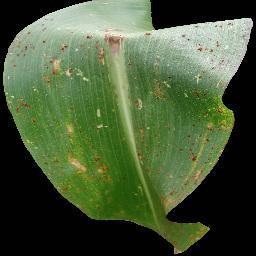Corn_Common_Rust: (1, 24, 132, 64), (184, 69, 234, 158), (176, 18, 254, 71), (163, 222, 214, 255), (63, 120, 87, 175), (157, 170, 186, 214), (186, 158, 221, 191), (36, 64, 91, 84), (138, 40, 175, 68), (7, 98, 40, 127), (90, 150, 113, 189), (151, 74, 174, 102), (4, 64, 18, 99), (135, 122, 150, 150), (94, 107, 111, 130), (133, 150, 151, 171), (40, 151, 59, 166), (133, 182, 147, 199), (52, 184, 73, 195), (132, 96, 145, 113), (38, 13, 56, 25), (143, 29, 153, 40)
